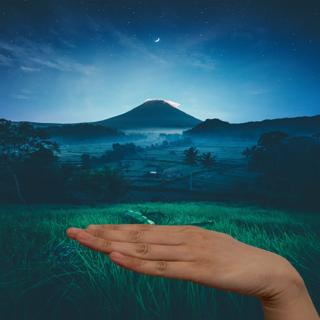WAIT: (60, 212, 296, 296)
